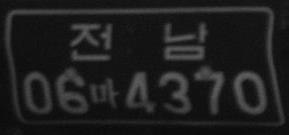0: (233, 70, 269, 115), (23, 70, 53, 115)
3: (158, 71, 192, 114)
4: (125, 72, 156, 112)
6: (55, 70, 89, 115)
7: (192, 70, 226, 115)
마: (90, 77, 121, 107)
전남_D: (70, 20, 208, 61)
